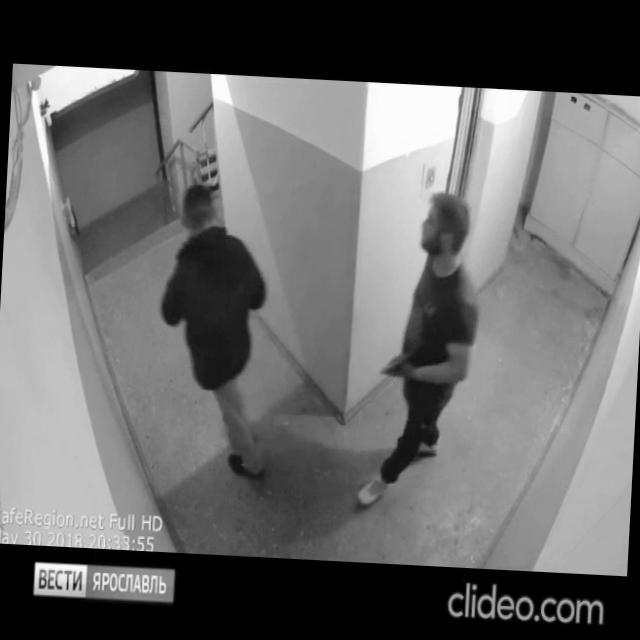gun: (370, 335, 412, 386)
person: (150, 178, 286, 488)
person with a gun: (353, 184, 490, 519)
